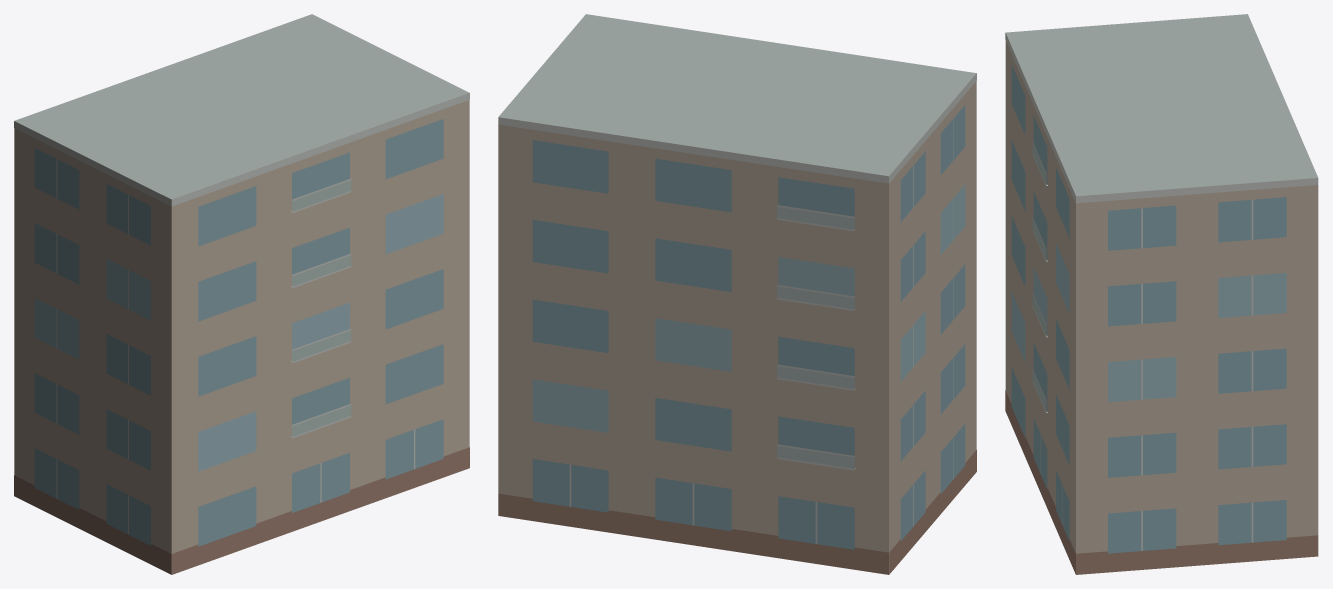
Rendered from survey-upis-32977010.glb.
3 views of the same model, side by side, from view 1: azimuth 30°, elevation 25°; view 2: azimuth 150°, elevation 25°; view 3: azimuth 270°, elevation 25° (orthographic). The views are drawn at different scales.
Visible parts, largest first — view 1: survey-upis-32977010.tmp; view 2: survey-upis-32977010.tmp; view 3: survey-upis-32977010.tmp.
Boxes of the visible parts, x1,y1,x2,y2 form: survey-upis-32977010.tmp: [14, 14, 469, 574]; survey-upis-32977010.tmp: [498, 14, 976, 574]; survey-upis-32977010.tmp: [1005, 14, 1318, 574].
Bounding box in the file's own units: 13.6 × 13.15 × 9.86.
